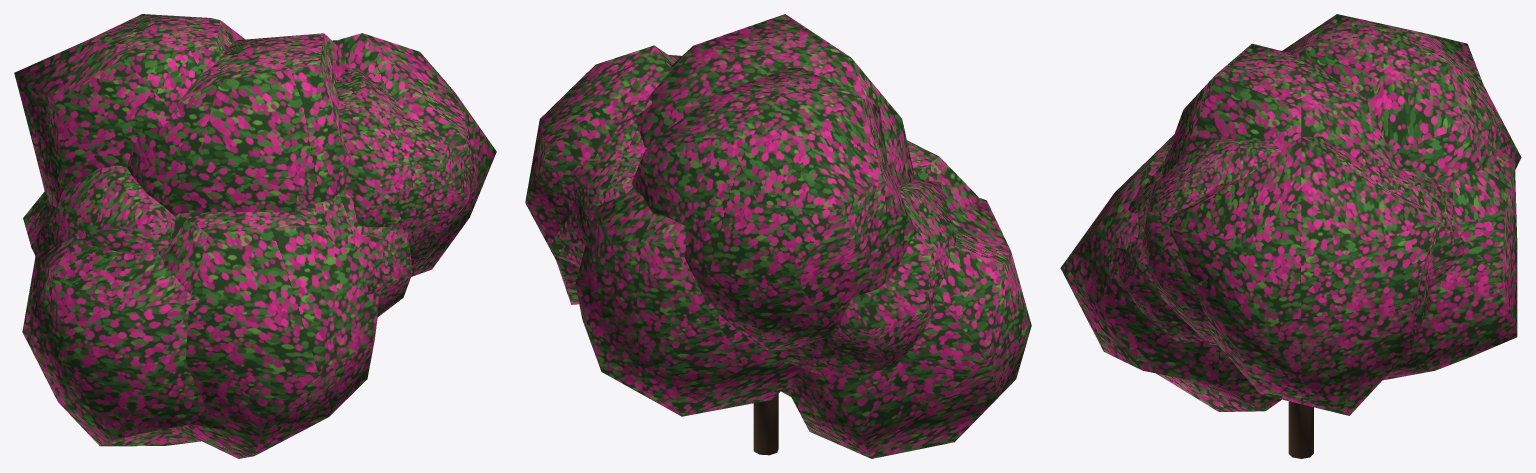
Rendered from Bougainvillea.fbx.
The picture shows the model from 3 angles, left to right: view 1: azimuth 30°, elevation 25°; view 2: azimuth 150°, elevation 25°; view 3: azimuth 270°, elevation 25°; orthographic projection.
Parts seen in each view (by area): view 1: Bougainvillea; view 2: Bougainvillea; view 3: Bougainvillea.
Part boxes in pixels (x1=…): Bougainvillea: x1=14, y1=14, x2=496, y2=458; Bougainvillea: x1=525, y1=14, x2=1031, y2=458; Bougainvillea: x1=1060, y1=14, x2=1521, y2=458.
Size of the model in its own units: 3.26 by 2.72 by 2.91.
